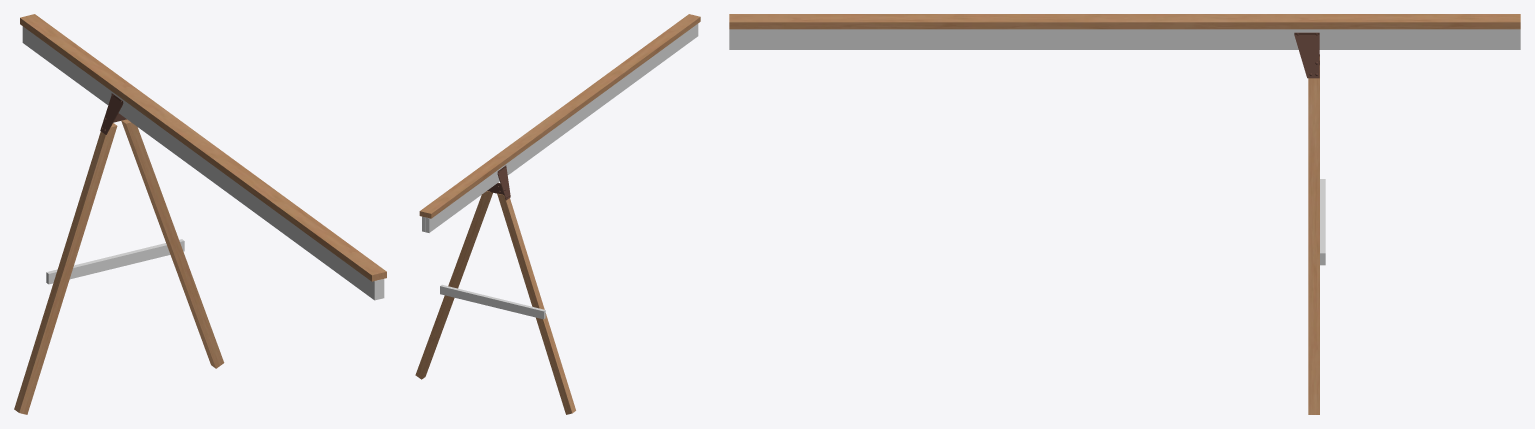
3 views of the same model, side by side, from view 1: azimuth 30°, elevation 25°; view 2: azimuth 150°, elevation 25°; view 3: azimuth 270°, elevation 25° (orthographic). The views are drawn at different scales.
Parts seen in each view (by area): view 1: Plane077, Plane077_1,_colorize_, Plane077_2; view 2: Plane077, Plane077_1,_colorize_, Plane077_2; view 3: Plane077_1,_colorize_, Plane077, Plane077_2.
Boxes of the visible parts, x1,y1,x2,y2 form: Plane077: (14, 14, 386, 414); Plane077_1,_colorize_: (22, 26, 384, 300); Plane077_2: (100, 93, 126, 134); Plane077: (415, 14, 700, 414); Plane077_1,_colorize_: (422, 23, 698, 319); Plane077_2: (487, 165, 510, 200); Plane077_1,_colorize_: (729, 29, 1520, 265); Plane077: (729, 14, 1520, 414); Plane077_2: (1294, 32, 1319, 78).
Size of the model in its own units: 1.94 by 2.77 by 5.75.
3 materials, 1 textured.
